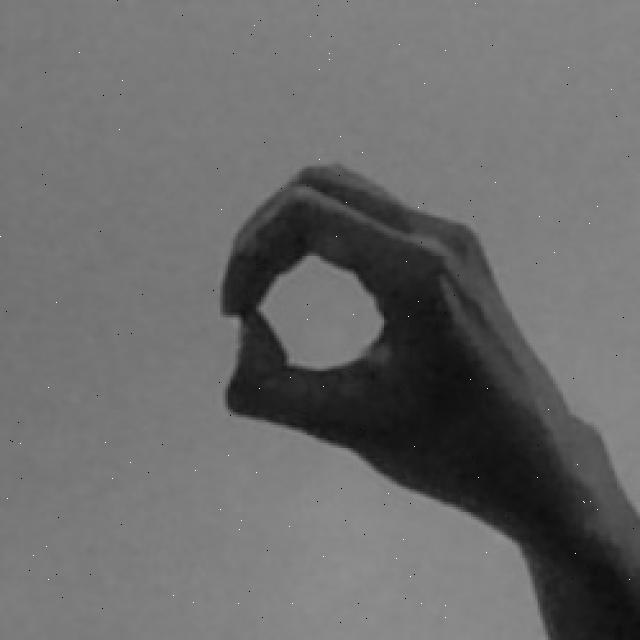O: (212, 158, 640, 640)
